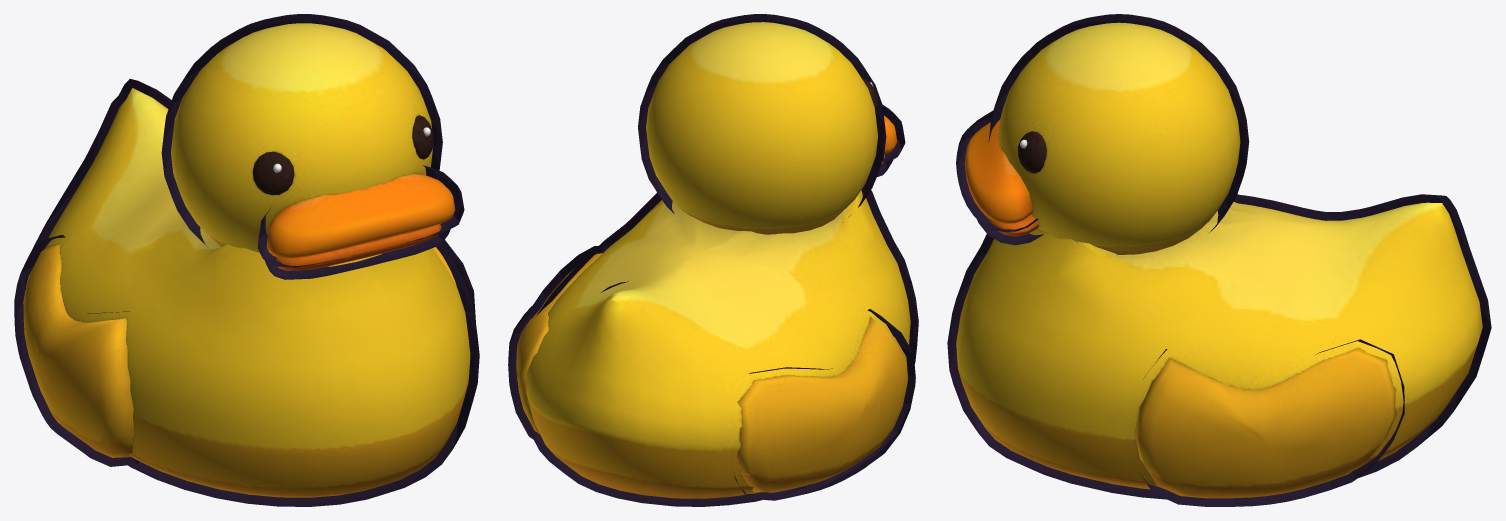
File: Duck.glb
3 views of the same model, side by side, from view 1: azimuth 30°, elevation 25°; view 2: azimuth 150°, elevation 25°; view 3: azimuth 270°, elevation 25° (orthographic). The views are drawn at different scales.
Visible parts, largest first — view 1: Duck, Duck_Outline; view 2: Duck, Duck_Outline; view 3: Duck, Duck_Outline.
Boxes of the visible parts, x1,y1,x2,y2 form: Duck: (23, 23, 470, 497); Duck_Outline: (14, 14, 479, 506); Duck: (516, 22, 910, 498); Duck_Outline: (508, 14, 918, 506); Duck: (956, 22, 1482, 498); Duck_Outline: (947, 14, 1491, 506).
Size of the model in its own units: 4.46 by 4.97 by 5.58.
Materials: 2 (2 with a texture image).
